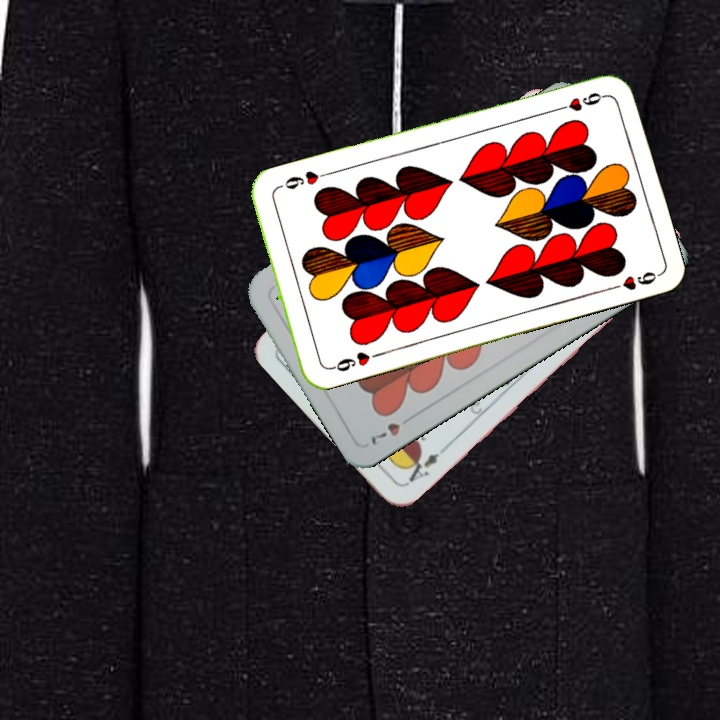EA: (400, 441, 450, 488)
H7: (365, 410, 417, 448)
H9: (323, 347, 381, 375), (551, 88, 609, 114)
